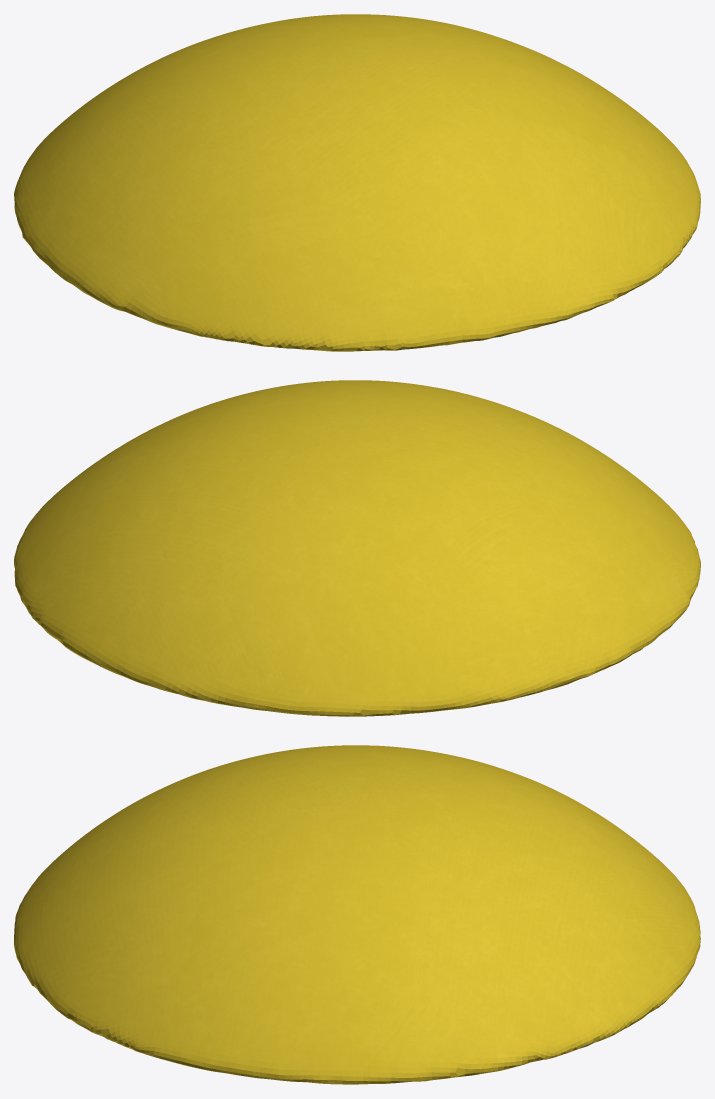
The model's file is Yellow.glb.
The picture shows the model from 3 angles, top to bottom: view 1: azimuth 30°, elevation 25°; view 2: azimuth 150°, elevation 25°; view 3: azimuth 270°, elevation 25°; orthographic projection.
Visible parts, largest first — view 1: HEAD_TOP; view 2: HEAD_TOP; view 3: HEAD_TOP.
Boxes of the visible parts, x1,y1,x2,y2 form: HEAD_TOP: (14, 14, 700, 351); HEAD_TOP: (14, 380, 700, 716); HEAD_TOP: (14, 745, 700, 1084).
Bounding box in the file's own units: 51.33 × 12.54 × 51.08.
1 material, 1 textured.
